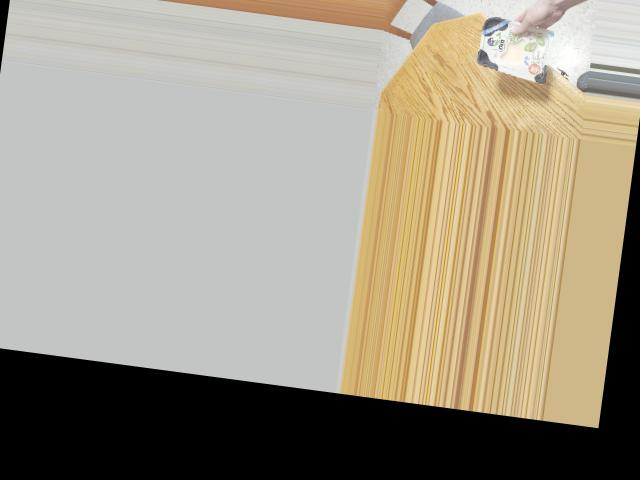cheese: (465, 10, 563, 85)
